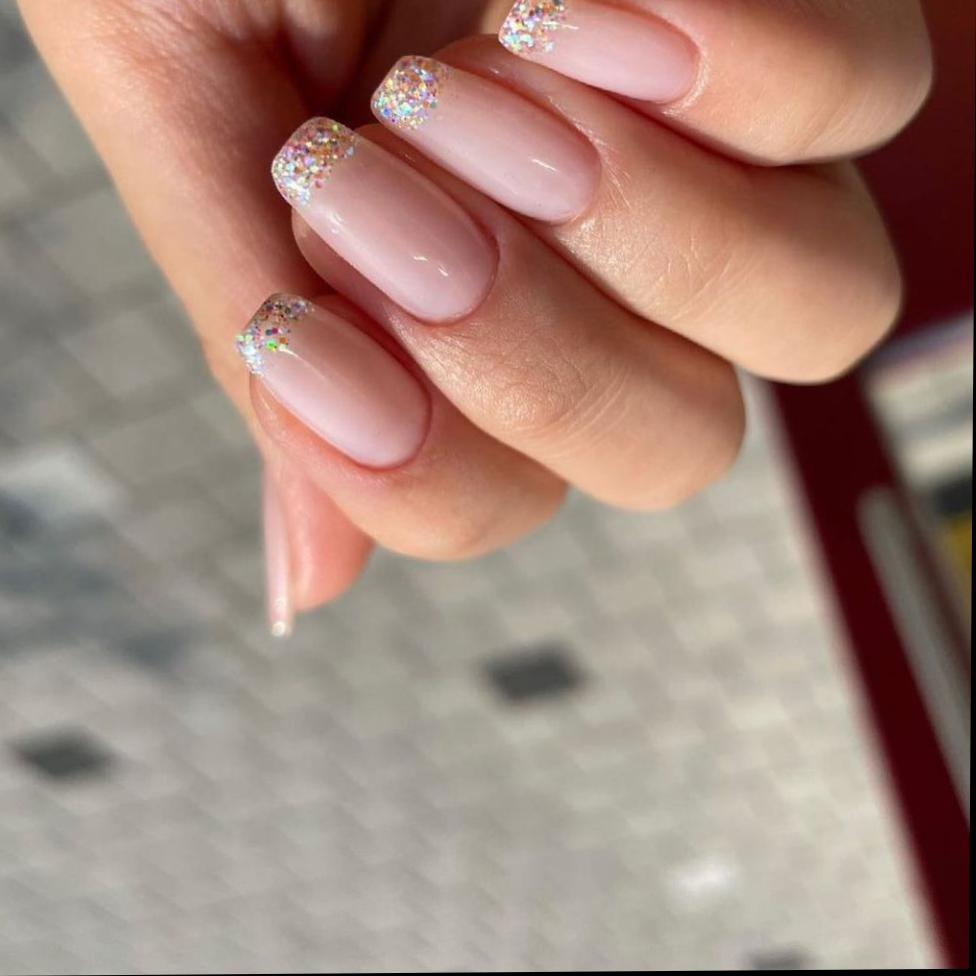nail: (265, 111, 748, 518), (268, 115, 500, 329), (367, 53, 602, 229), (232, 291, 434, 475), (495, 0, 700, 108), (259, 465, 296, 641)
